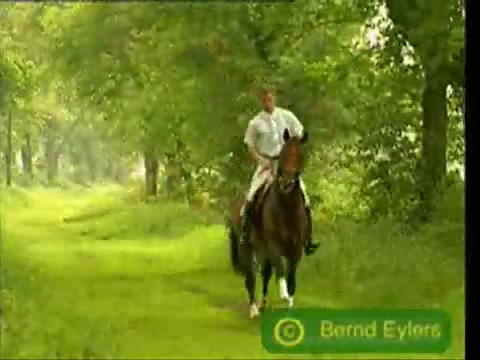horse: (231, 128, 317, 319)
